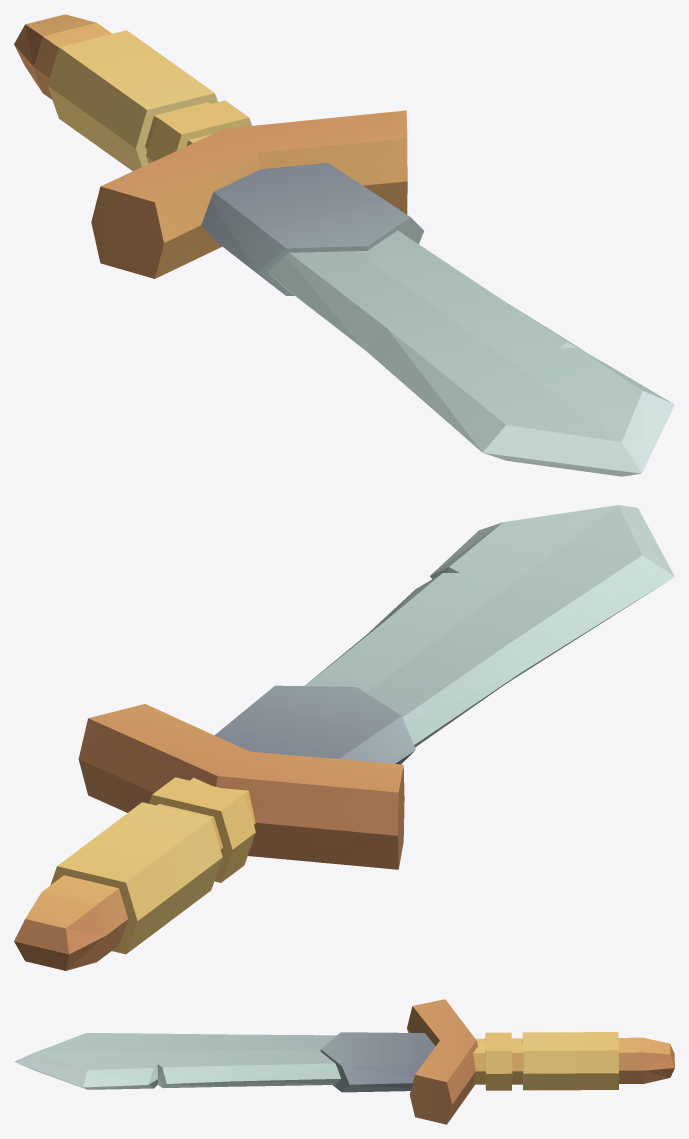
The model's file is longsword.FBX.
3 views of the same model, one above another, from view 1: azimuth 30°, elevation 25°; view 2: azimuth 150°, elevation 25°; view 3: azimuth 270°, elevation 25° (orthographic). The views are drawn at different scales.
Parts seen in each view (by area): view 1: logsword; view 2: logsword; view 3: logsword.
Part boxes in pixels (bbox=[...]): logsword: bbox=[14, 14, 674, 476]; logsword: bbox=[14, 505, 674, 970]; logsword: bbox=[14, 999, 674, 1124].
Bounding box in the file's own units: 20.75 × 4.81 × 67.86.
